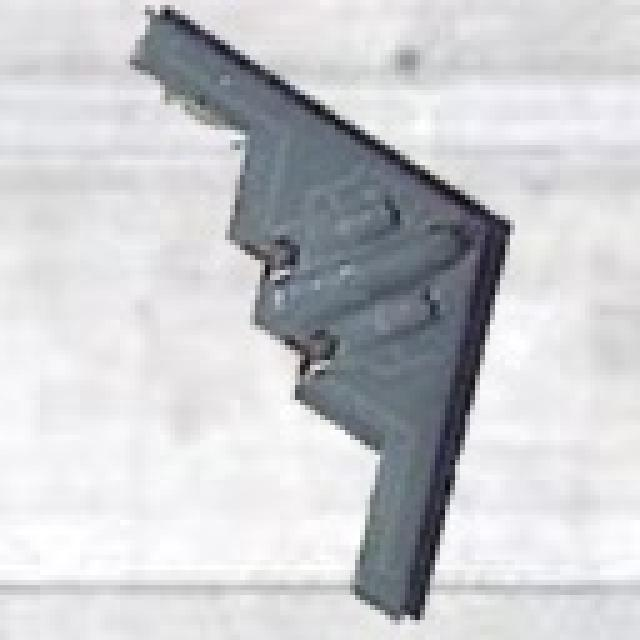B-2_TopDown: (125, 0, 515, 620)
